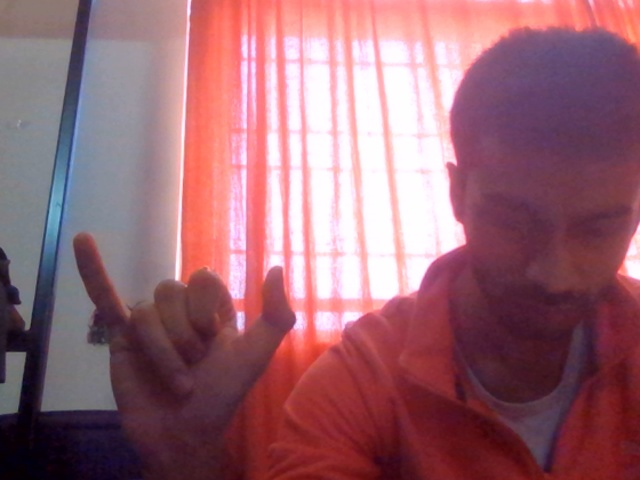Y: (58, 211, 321, 447)
